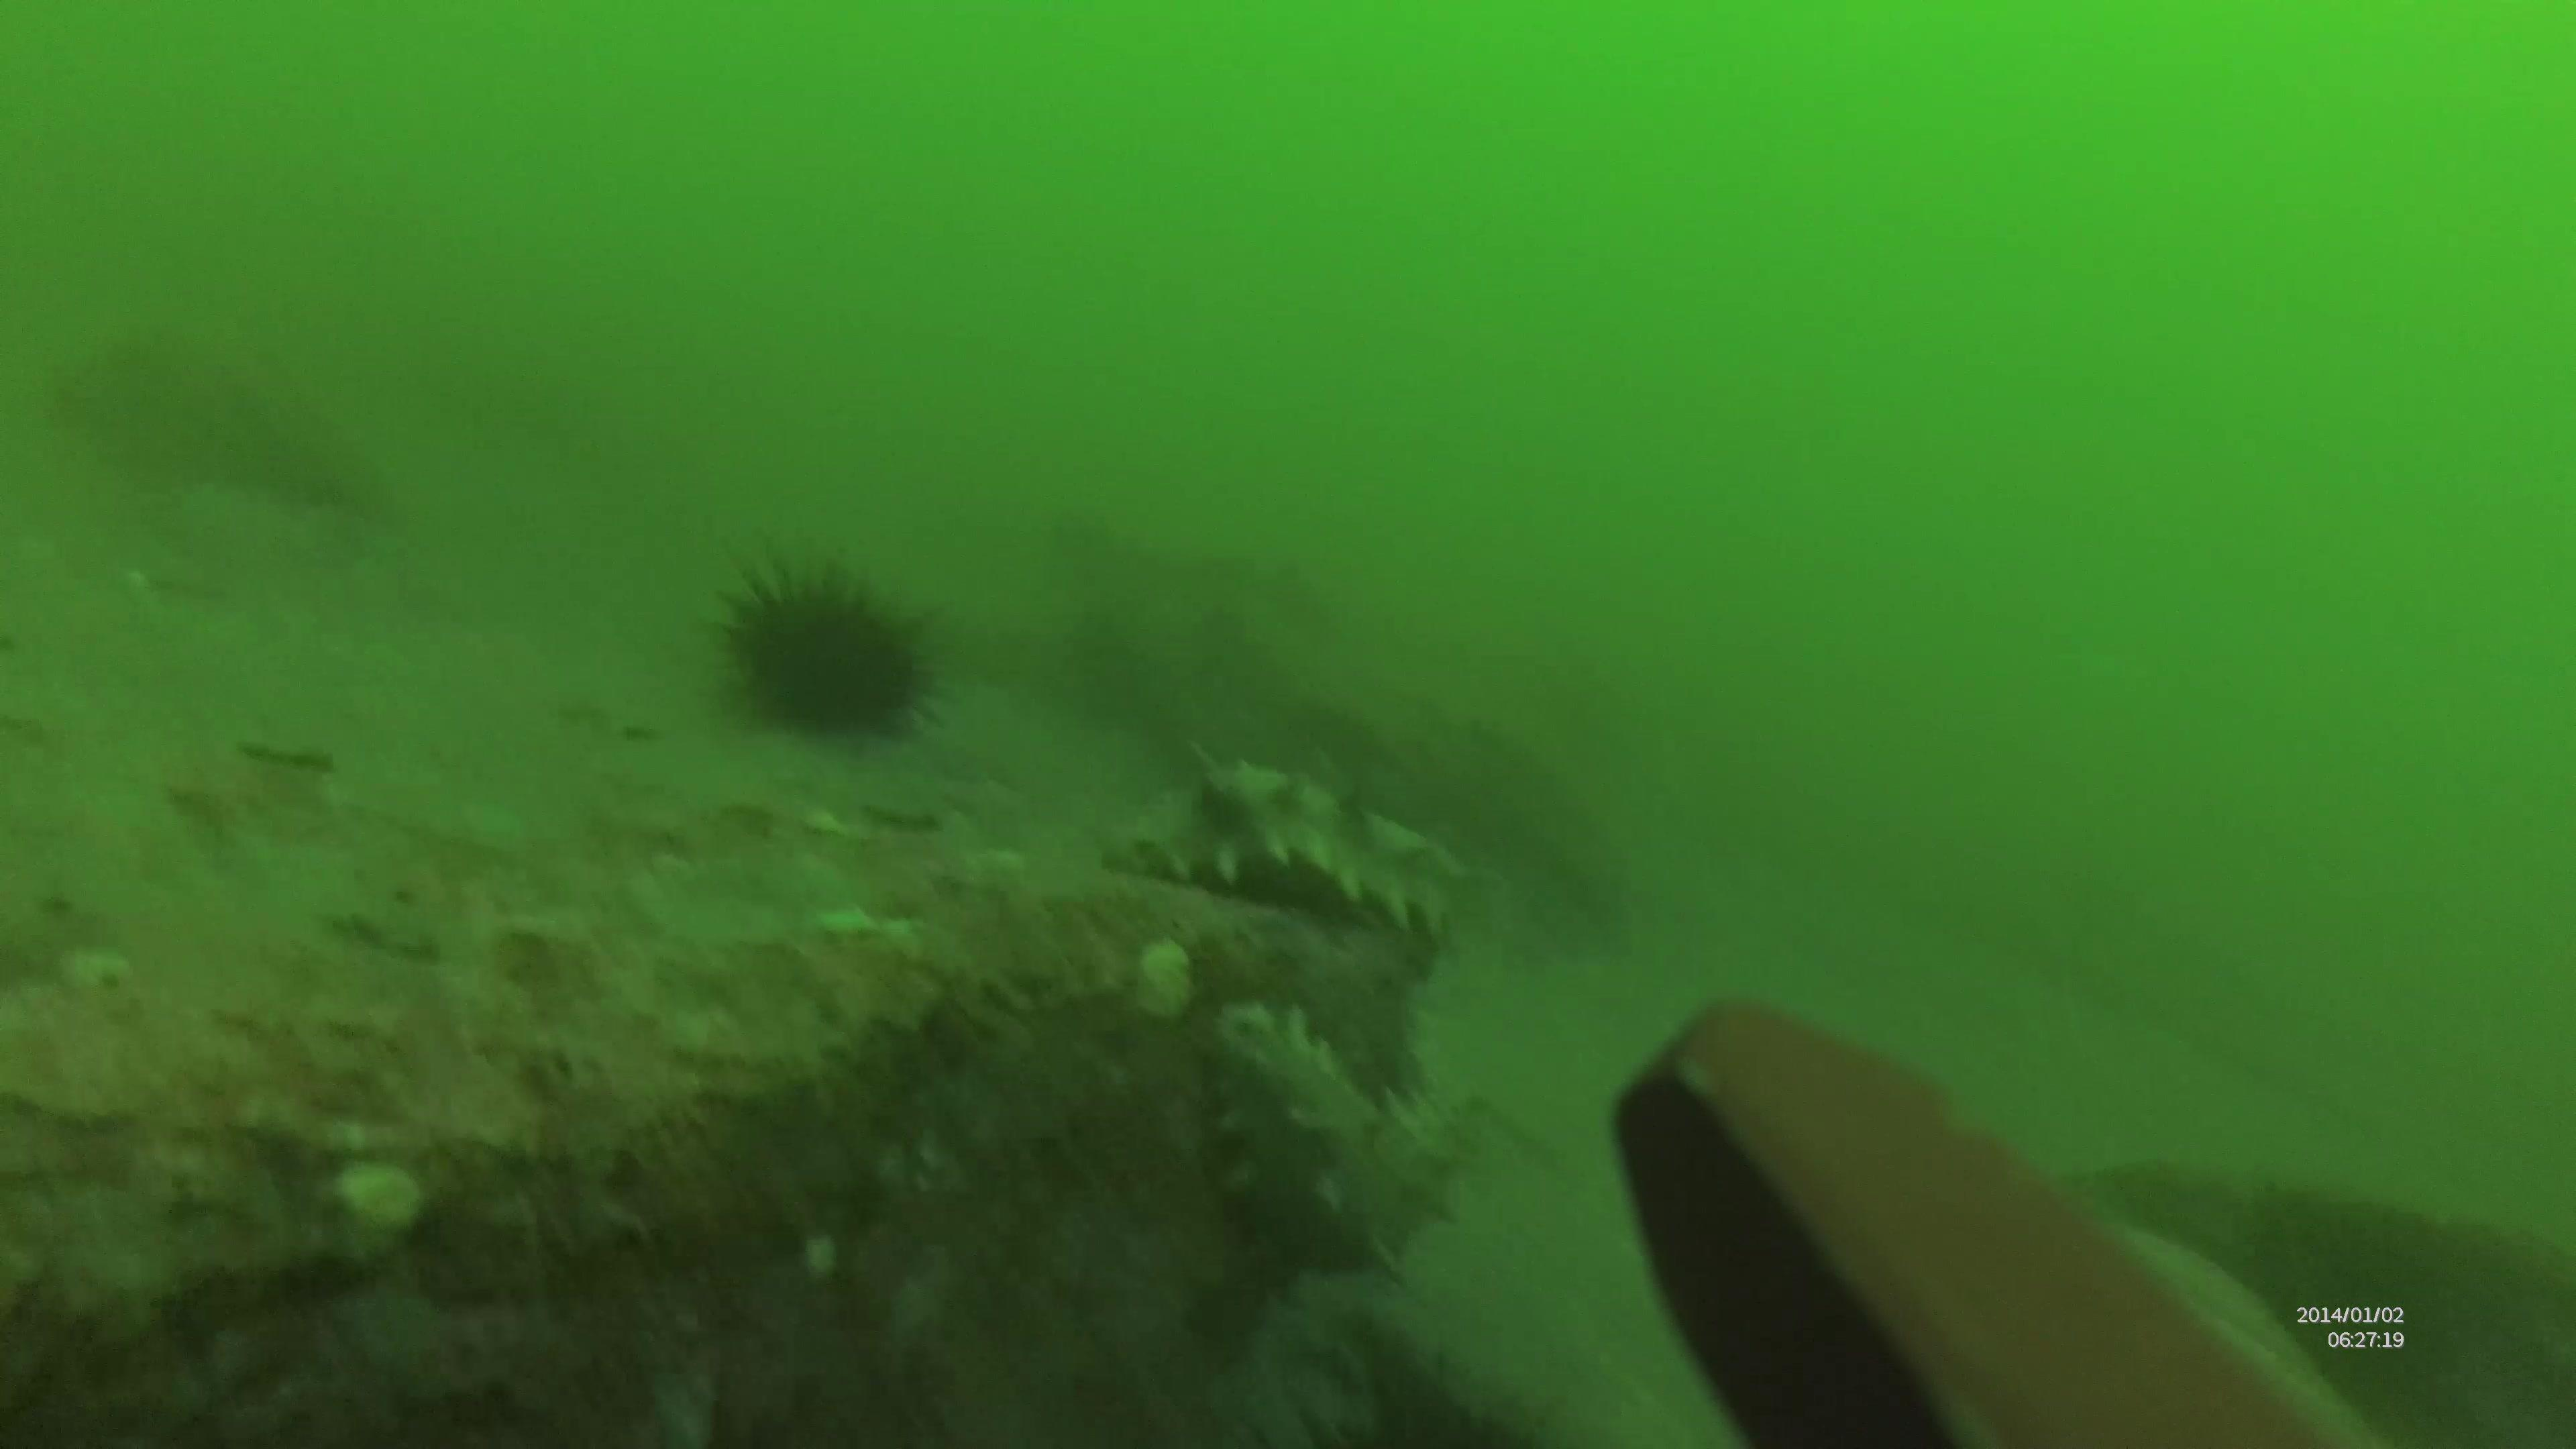echinus: (686, 547, 947, 748)
holothurian: (1116, 754, 1453, 934)
